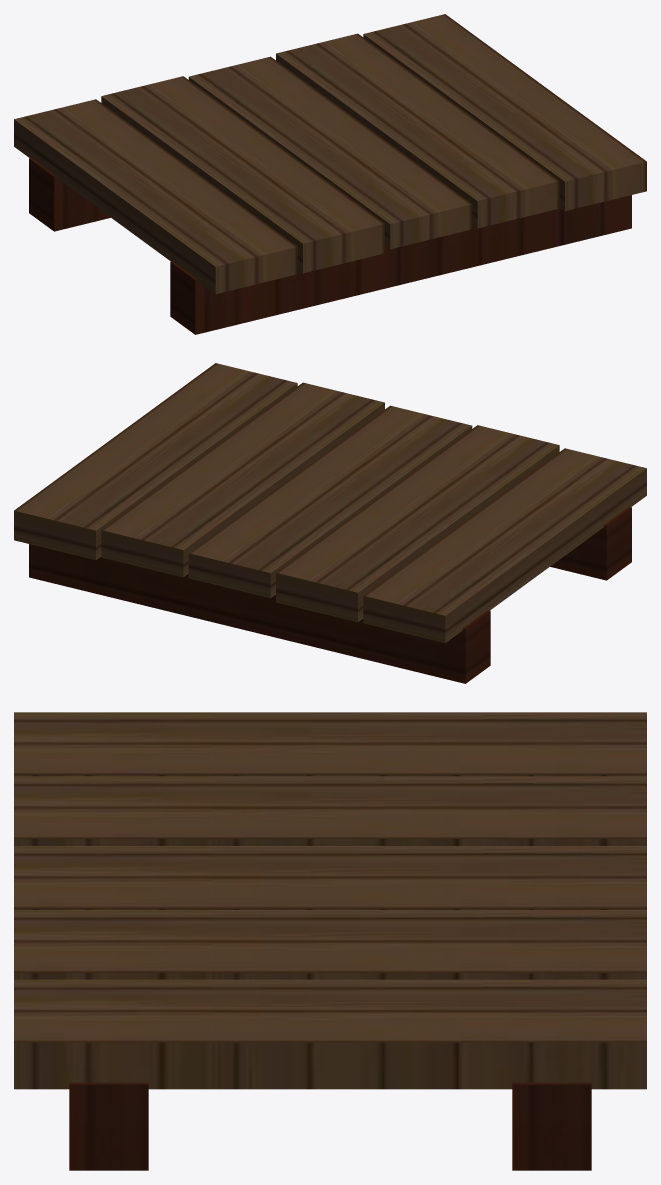
The model's file is plat_wood_mid_01.glb.
3 views of the same model, one above another, from view 1: azimuth 30°, elevation 25°; view 2: azimuth 150°, elevation 25°; view 3: azimuth 270°, elevation 25° (orthographic). The views are drawn at different scales.
Parts seen in each view (by area): view 1: plat_wood_mid_01; view 2: plat_wood_mid_01; view 3: plat_wood_mid_01.
Part boxes in pixels (x1,y1,x2,y2): plat_wood_mid_01: (14,14,646,334); plat_wood_mid_01: (14,363,646,683); plat_wood_mid_01: (14,712,646,1170).
Bounding box in the file's own units: 1 × 0.1799 × 0.8.
Materials: 2 (2 with a texture image).
